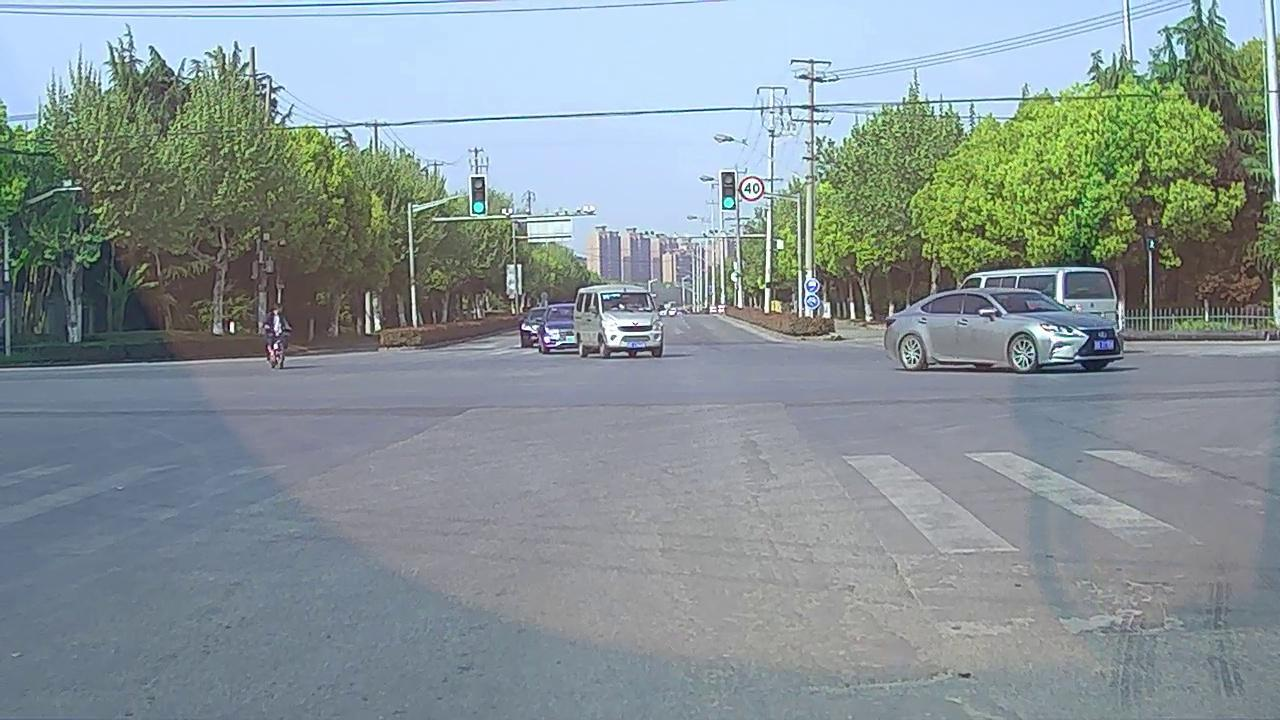traffic_light: (470, 175, 486, 217), (722, 173, 735, 212)
